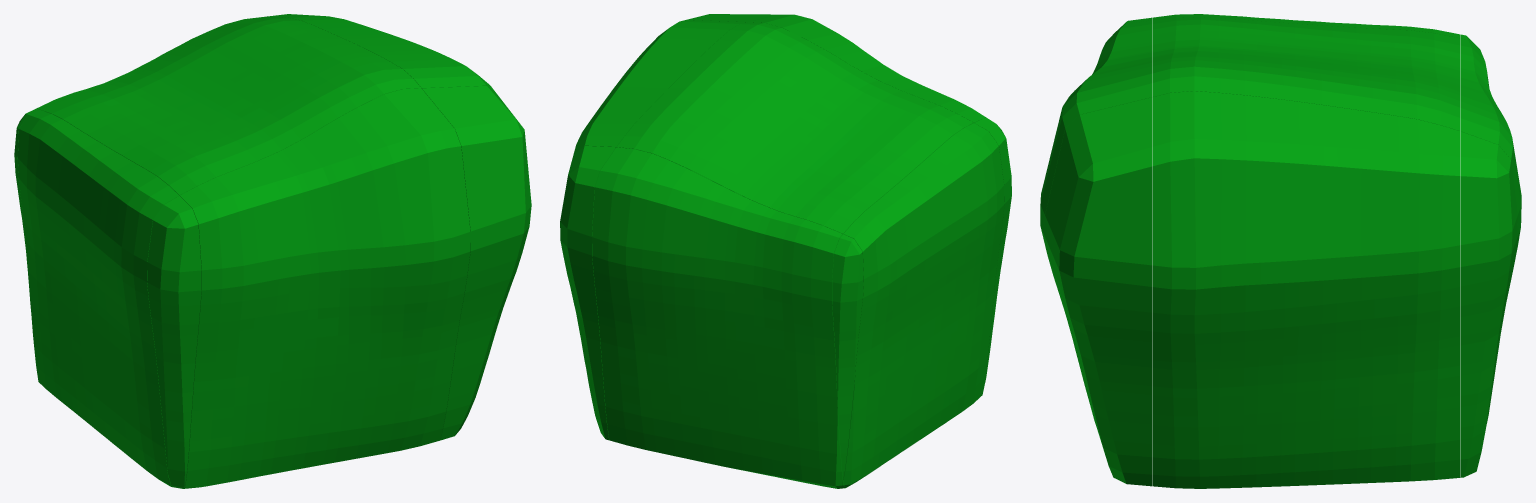
Rendered from 4by10beveledsubdivided.014.fbx.
The picture shows the model from 3 angles, left to right: view 1: azimuth 30°, elevation 25°; view 2: azimuth 150°, elevation 25°; view 3: azimuth 270°, elevation 25°; orthographic projection. The views are drawn at different scales.
Parts seen in each view (by area): view 1: 4by10beveledsubdivided.014; view 2: 4by10beveledsubdivided.014; view 3: 4by10beveledsubdivided.014.
Boxes of the visible parts, x1,y1,x2,y2 form: 4by10beveledsubdivided.014: (14, 14, 531, 488); 4by10beveledsubdivided.014: (560, 14, 1011, 488); 4by10beveledsubdivided.014: (1040, 14, 1521, 488).
Size of the model in its own units: 310 by 275 by 313.
